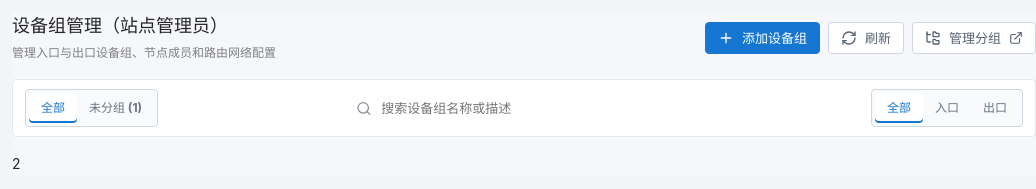
DeviceGroupsPage › filters ungrouped device groups and displays the live count
This screenshot has width=1036, height=189.
Check: the link to "/user-groups" reads "管理分组", box top-left (912, 22), bottom-right (1035, 54)
Check: the text with test id "inventory" reads "2", box top-left (12, 155), bottom-right (20, 172)
Click the tab "未分组 (1)". click: (116, 108)
box: top-left (77, 93), bottom-right (154, 123)
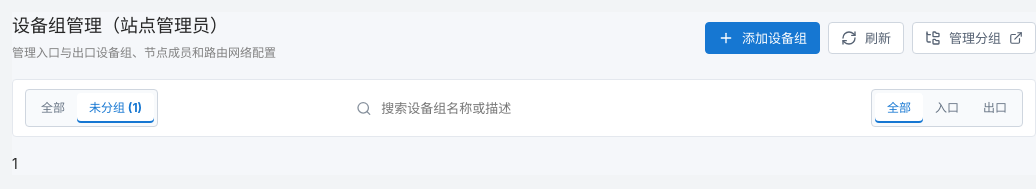
Check: the text with test id "inventory" reads "1", box top-left (12, 155), bottom-right (18, 172)
